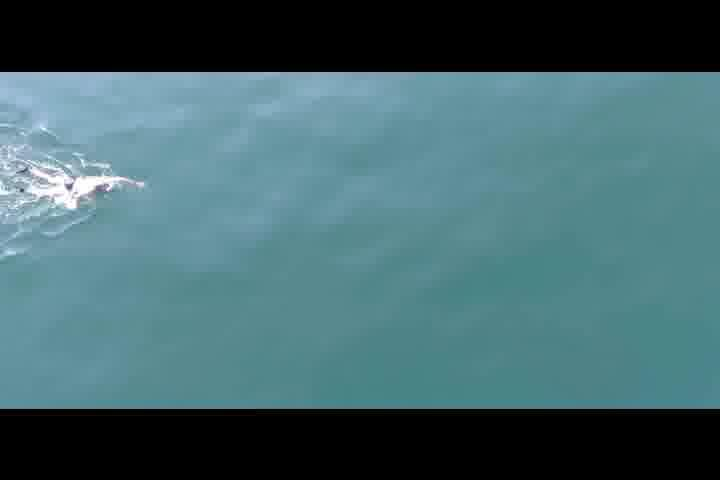human: (16, 171, 145, 210)
